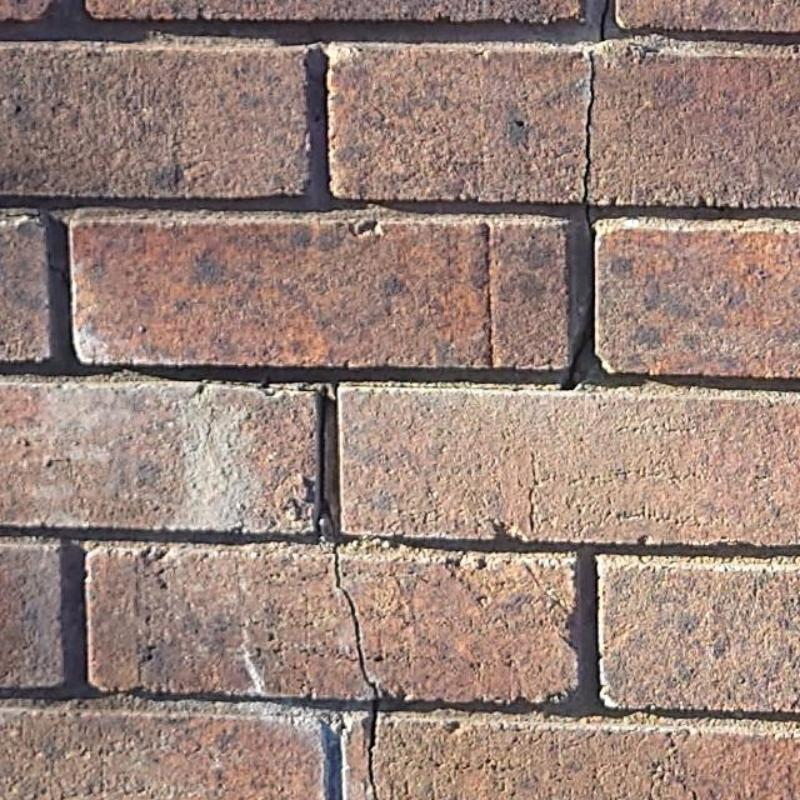pothole: (332, 544, 385, 799), (561, 204, 598, 391), (316, 390, 338, 539), (580, 50, 597, 204), (600, 0, 611, 42)
